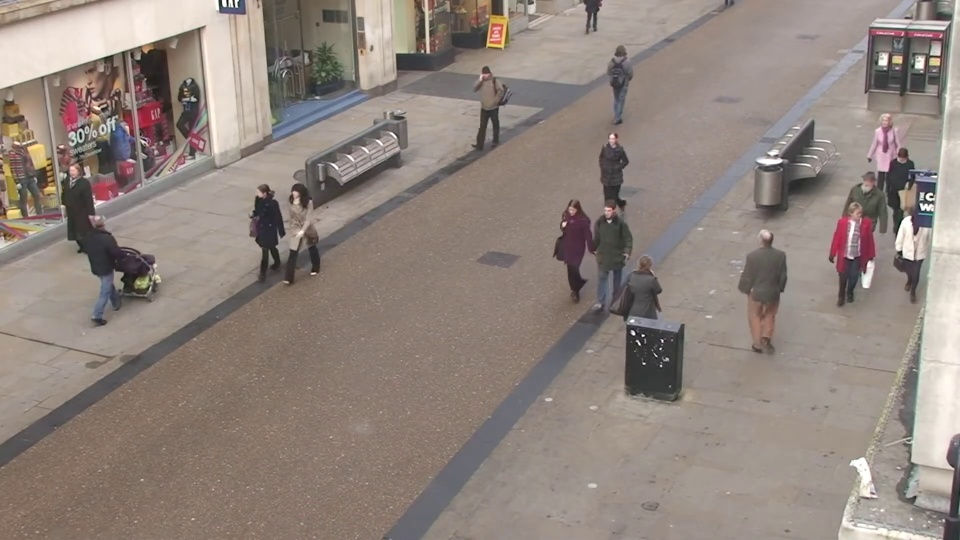pedestrian: (87, 201, 138, 317), (824, 203, 871, 323), (625, 246, 668, 377), (743, 220, 788, 344), (48, 165, 99, 271), (836, 174, 881, 287), (874, 149, 920, 256), (272, 181, 314, 293), (240, 181, 282, 292), (550, 203, 588, 323), (584, 201, 622, 321), (860, 111, 902, 208), (593, 129, 625, 230), (466, 67, 495, 149), (610, 42, 635, 117)
